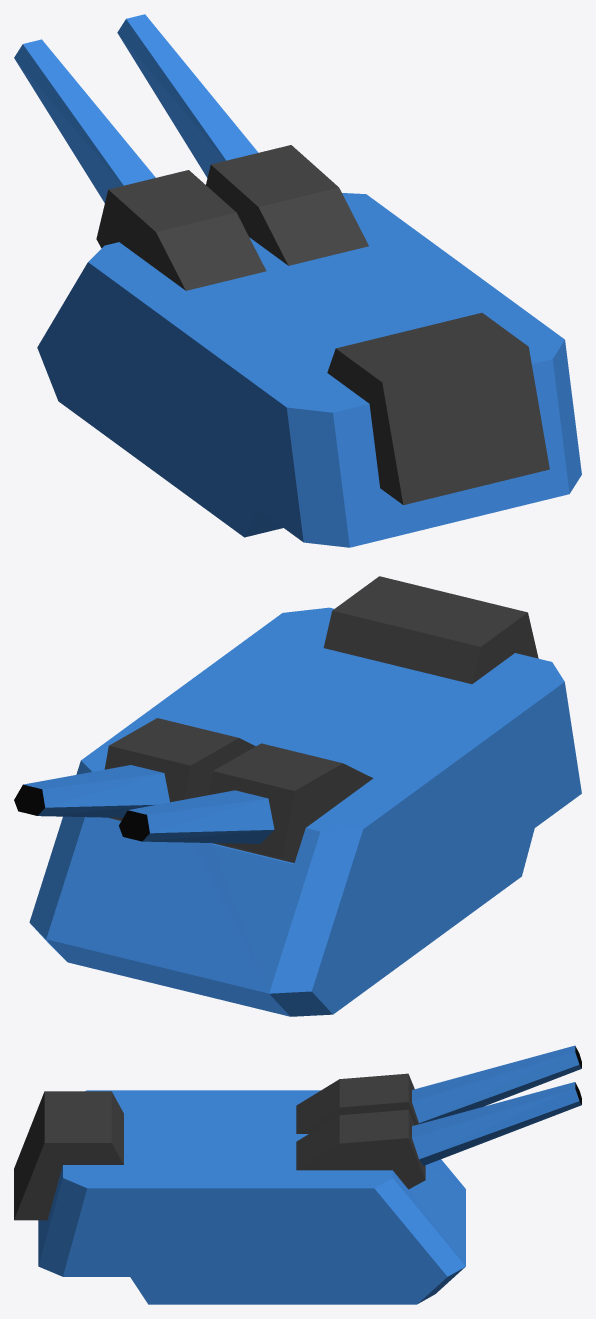
The model's file is tire.FBX.
The picture shows the model from 3 angles, top to bottom: view 1: azimuth 30°, elevation 25°; view 2: azimuth 150°, elevation 25°; view 3: azimuth 270°, elevation 25°; orthographic projection. The views are drawn at different scales.
Visible parts, largest first — view 1: VIFS002, VIFS001; view 2: VIFS002, VIFS001, VIFS003; view 3: VIFS002, VIFS001.
Boxes of the visible parts, box(x1,y1,x2,y2) form: VIFS002: box(14, 14, 581, 547); VIFS001: box(96, 145, 549, 504); VIFS002: box(23, 607, 581, 1016); VIFS001: box(104, 576, 538, 863); VIFS003: box(14, 784, 149, 841); VIFS002: box(38, 1045, 581, 1304); VIFS001: box(14, 1073, 425, 1220).
Bounding box in the file's own units: 0.38 × 0.338 × 0.93.
